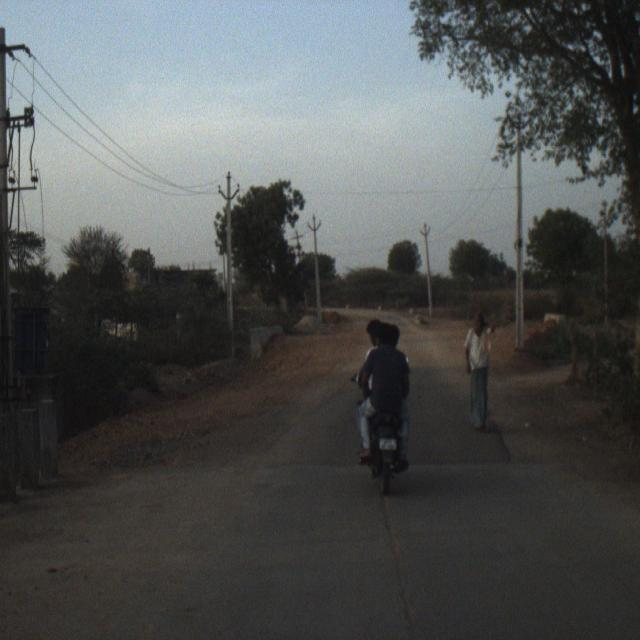high: (457, 303, 508, 450)
